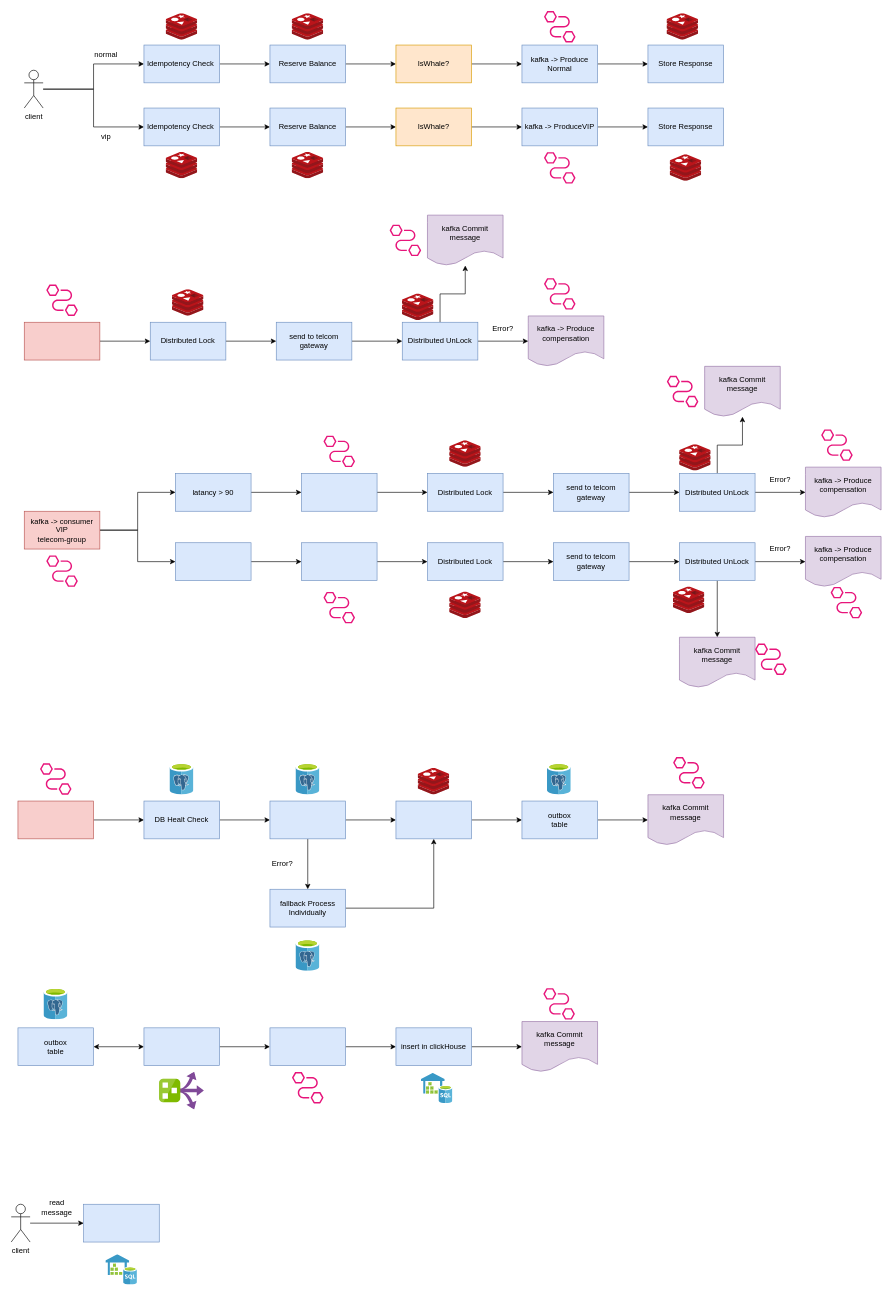
This 892x1295 diagram has some shape labels left out. The shapes that lost their labels are listed below. From the top down, each one's centre as x and y in pixels, then its label:
(62,341): kafka -> consumer Normal telecom-group
(339,492): pause consumer Normal telecom-group
(213,561): latancy < 50
(339,561): resume consumer Normal telecom-group
(55,819): kafka -> consumer Normal & VIP accounting-group
(307,819): flush Bulk
(433,819): Commit Reserved
(181,1046): debezium read table
(307,1046): kafka -> Produce event
(121,1223): query from clickHouse
